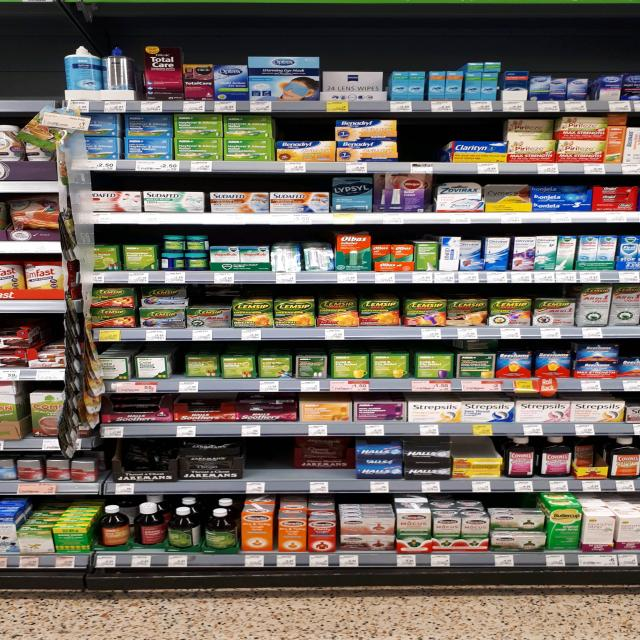empty: (5, 43, 64, 101), (242, 436, 297, 482), (399, 120, 447, 166)
